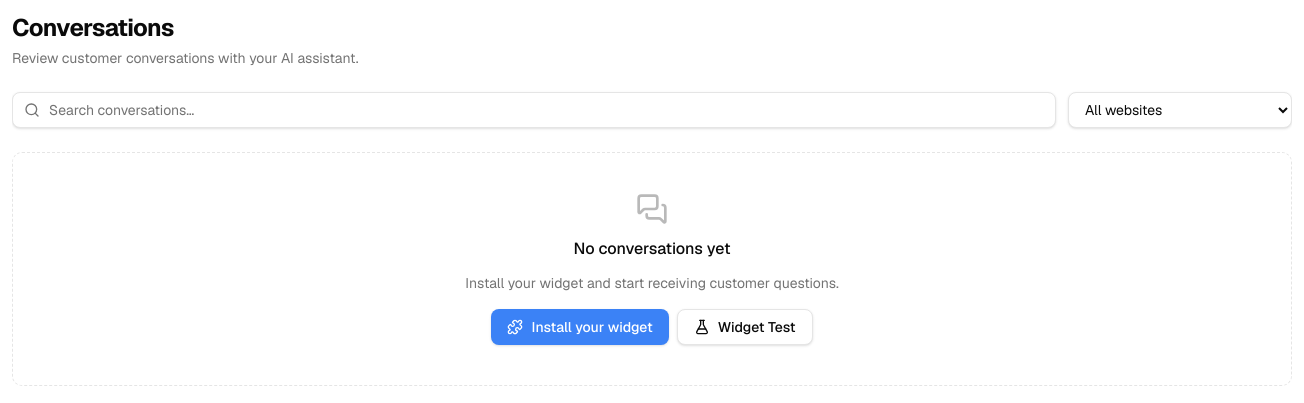
it: ConversationsPage › shows an empty state with a clear action when filters match nothing
Type "nothing" into the search field labelled "Search conversations" at (534, 110), box x1=12 y1=92 x2=1056 y2=128
Wait 400 ms
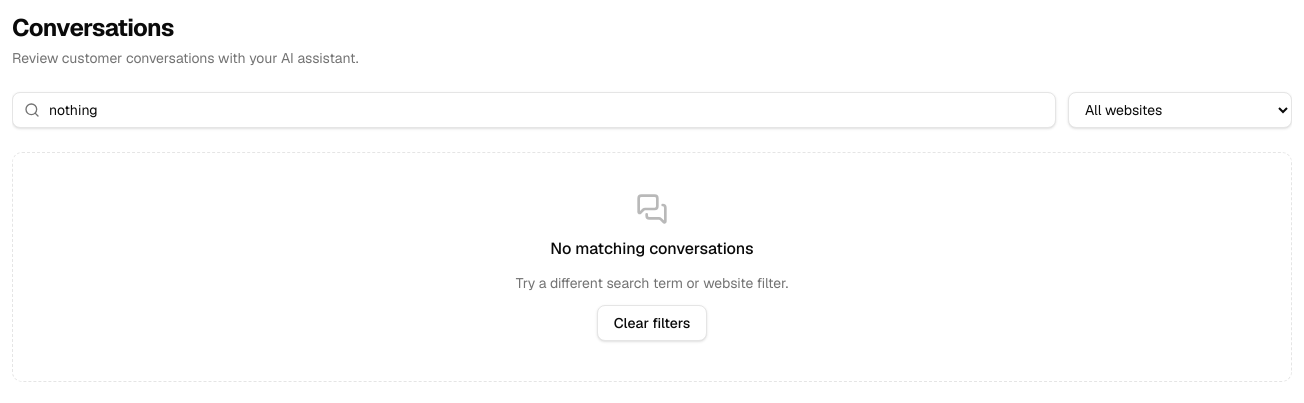
expect the text "No matching conversations" is shown: met, box x1=550 y1=237 x2=754 y2=261
expect the button "Clear filters" is shown: met, box x1=597 y1=305 x2=707 y2=341
